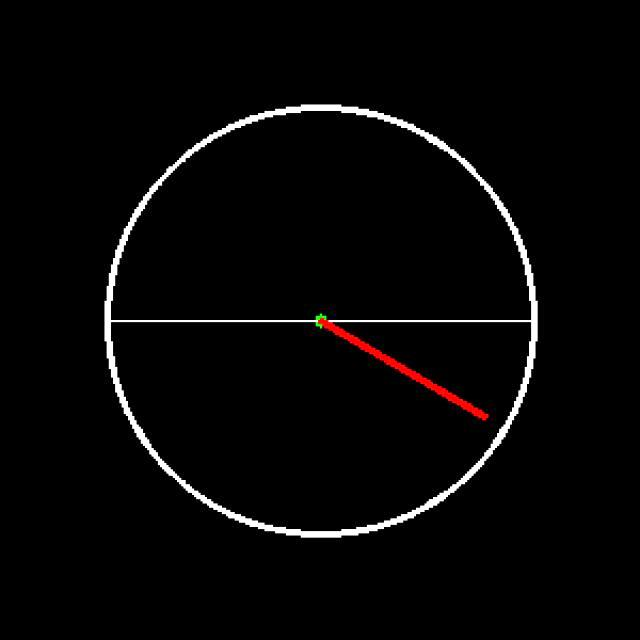Needle_Tip: (460, 393, 501, 439)
Needle_base: (285, 299, 358, 361)
